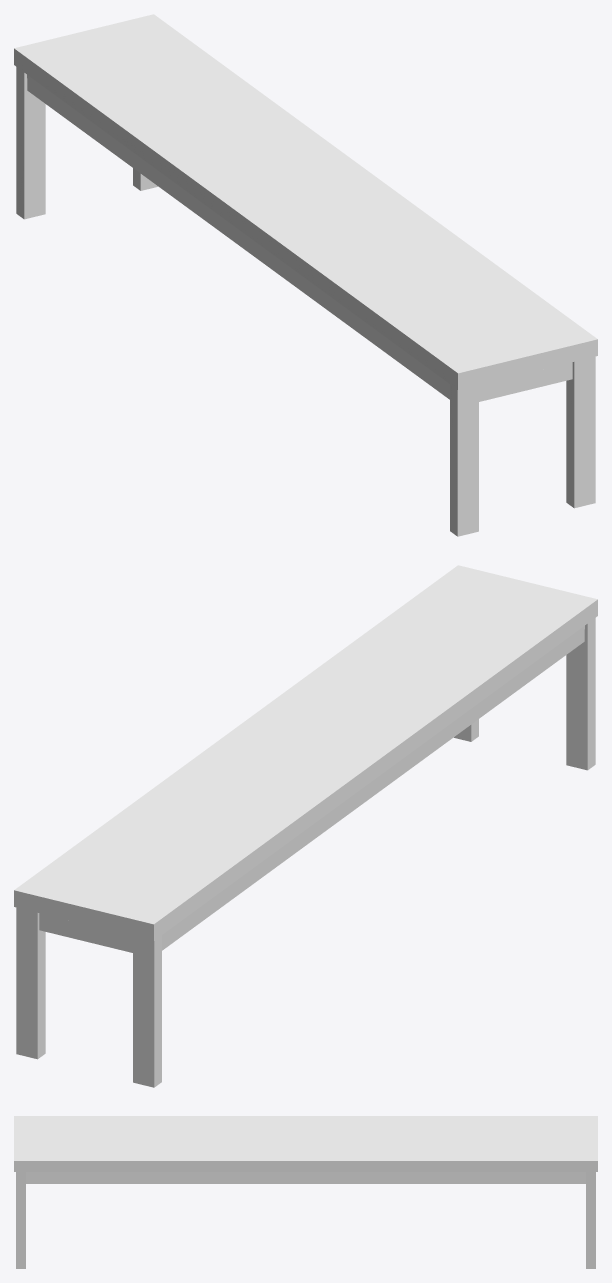
The model's file is Prop_Bench_01.glb.
The picture shows the model from 3 angles, top to bottom: view 1: azimuth 30°, elevation 25°; view 2: azimuth 150°, elevation 25°; view 3: azimuth 270°, elevation 25°; orthographic projection. The views are drawn at different scales.
Visible parts, largest first — view 1: Prop_Bench_01; view 2: Prop_Bench_01; view 3: Prop_Bench_01.
Boxes of the visible parts, left/top/right/bottom form: Prop_Bench_01: left=14, top=14, right=597, bottom=536; Prop_Bench_01: left=14, top=565, right=597, bottom=1087; Prop_Bench_01: left=14, top=1116, right=597, bottom=1268.
Size of the model in its own units: 0.4 by 0.45 by 2.2.
1 material, 1 textured.
